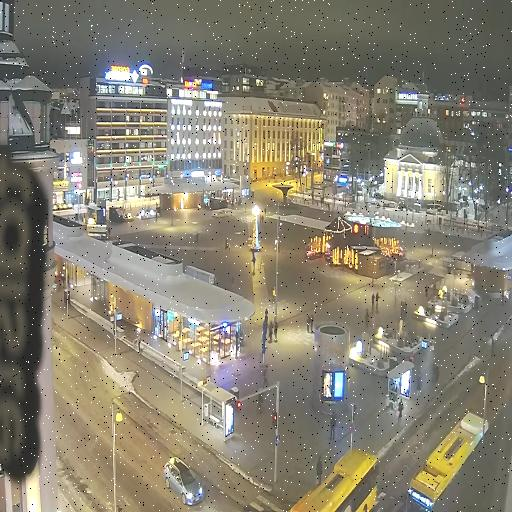Bus: (406, 412, 488, 512), (290, 449, 379, 512)
